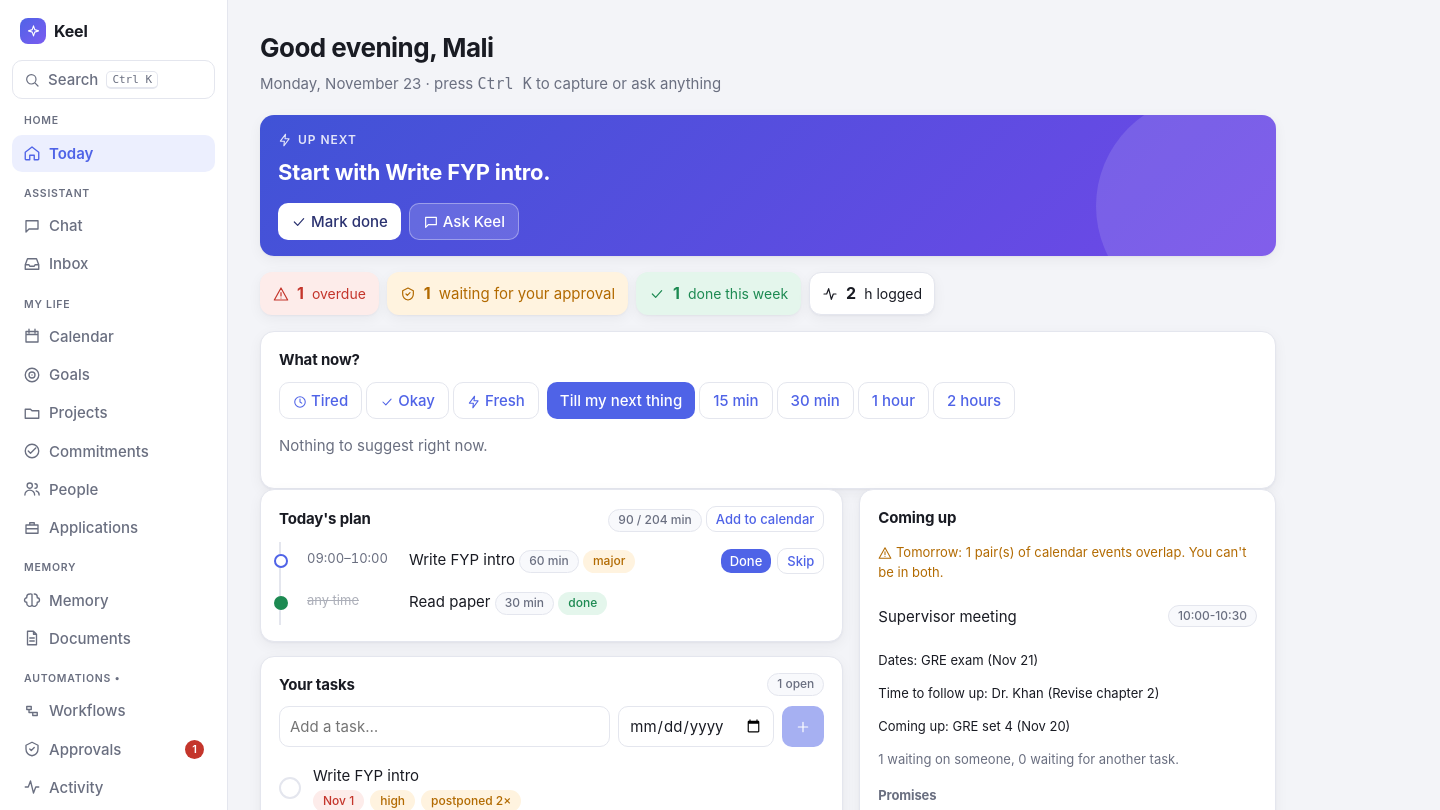
Test: dashboard smoke tests › renders the Goals tab without errors
The width and height of the screenshot is (1440, 810).
Click the button "Goals".
click(114, 375)  # box x1=12 y1=356 x2=215 y2=393
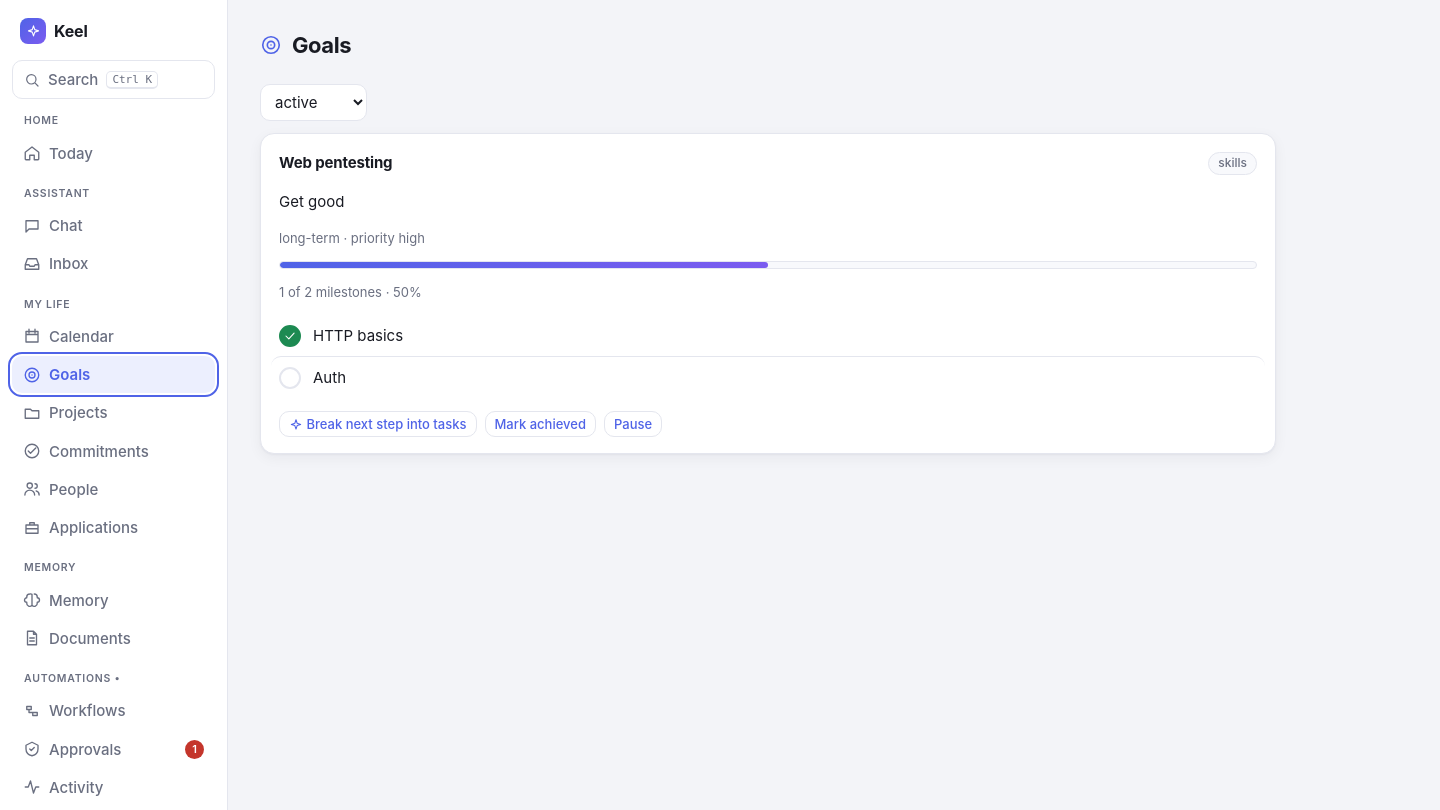
Now the heading "Web pentesting" is shown, box x1=279 y1=151 x2=392 y2=174
